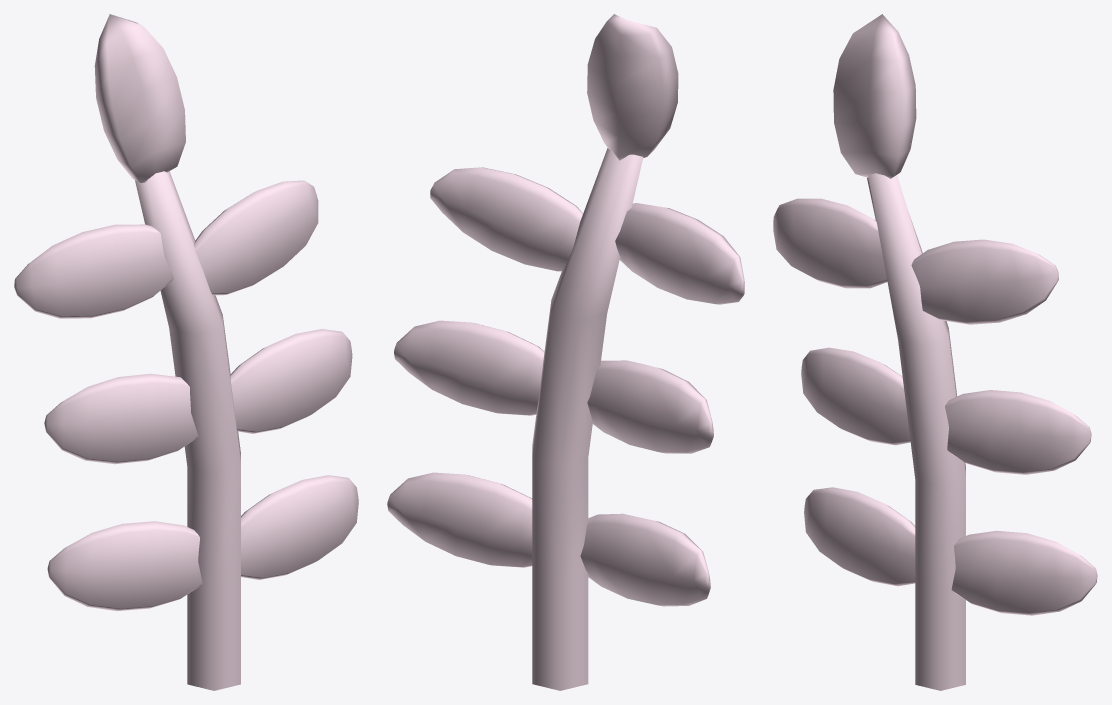
Rendered from Seaweed.fbx.
The picture shows the model from 3 angles, left to right: view 1: azimuth 30°, elevation 25°; view 2: azimuth 150°, elevation 25°; view 3: azimuth 330°, elevation 25°; orthographic projection. The views are drawn at different scales.
Parts seen in each view (by area): view 1: Coral2; view 2: Coral2; view 3: Coral2.
Part boxes in pixels (x1=…): Coral2: x1=14, y1=14, x2=358, y2=690; Coral2: x1=387, y1=14, x2=744, y2=690; Coral2: x1=773, y1=14, x2=1097, y2=690.
Size of the model in its own units: 1.29 by 2.41 by 0.2397.
